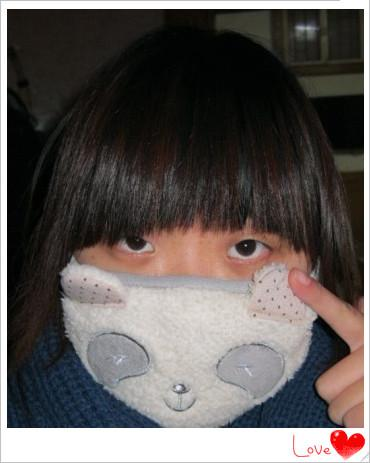OK: (62, 173, 318, 429)
